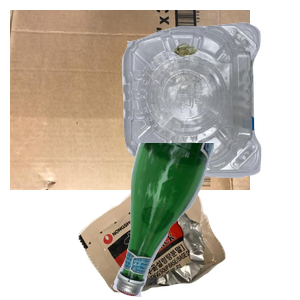cardboard: (10, 10, 250, 190)
glass: (109, 143, 300, 300)
plastic: (119, 20, 300, 190)
trash: (76, 170, 300, 300)
